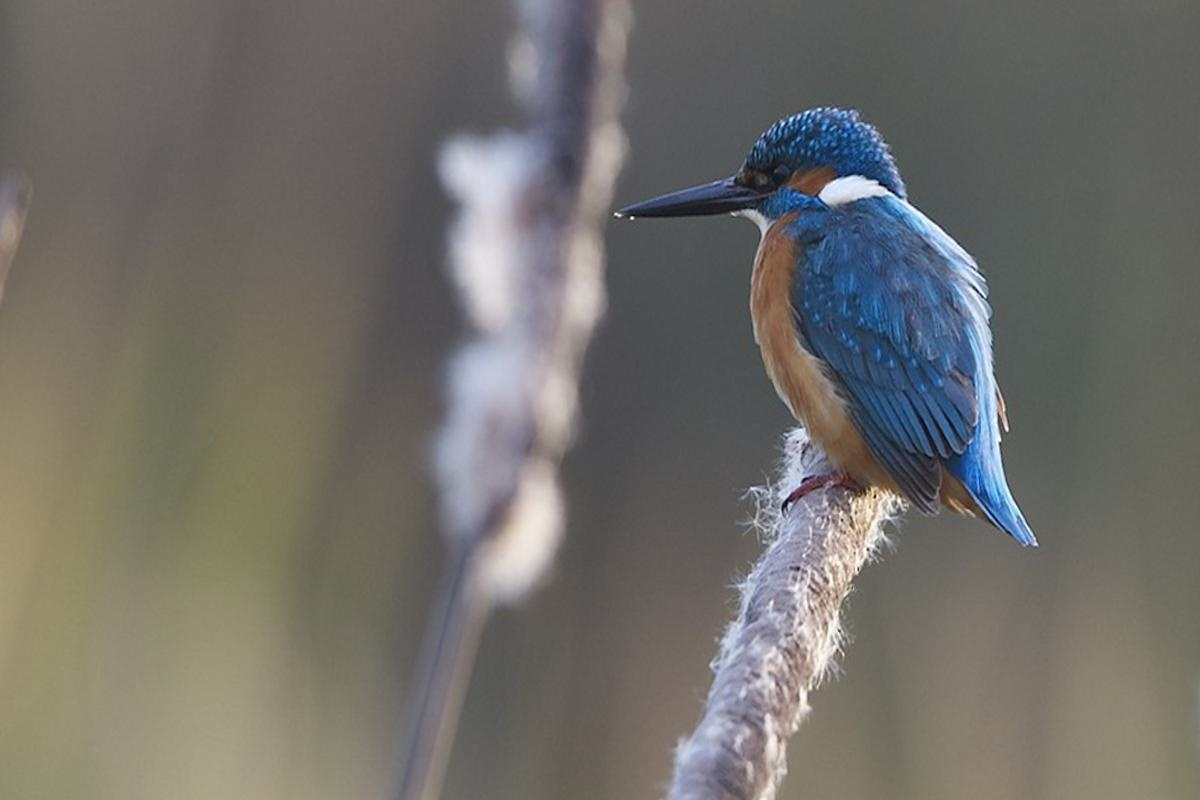kingfisher: (595, 108, 1045, 549)
